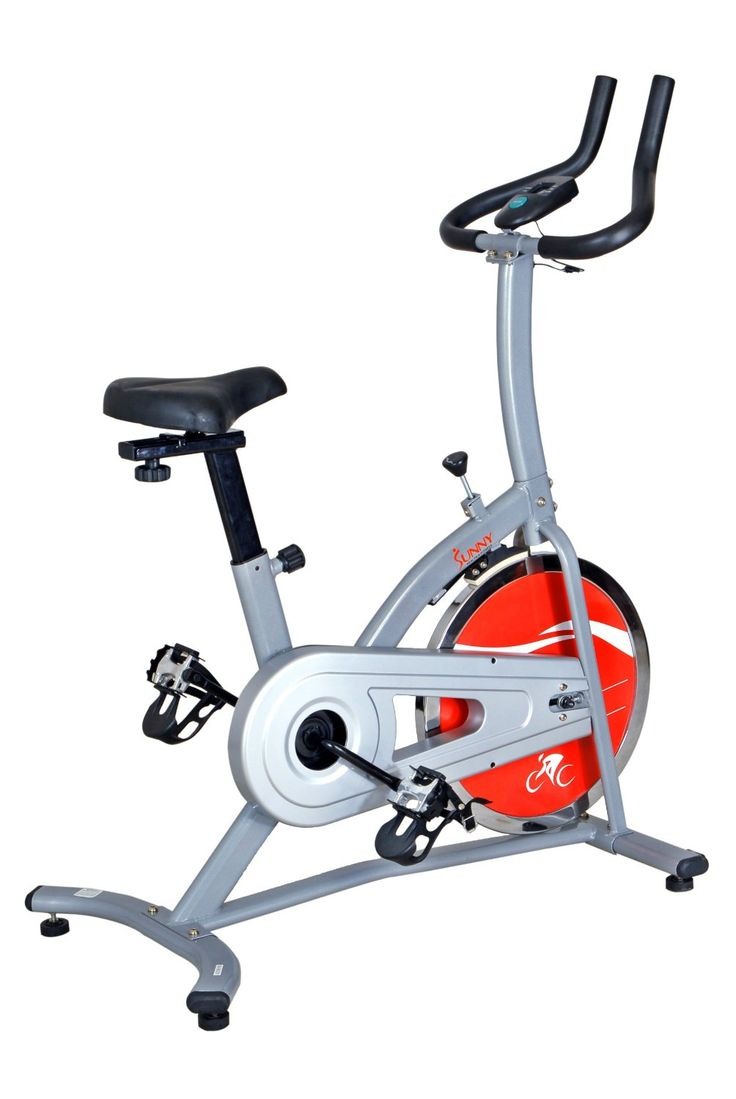gym_bike: (42, 59, 712, 1037)
